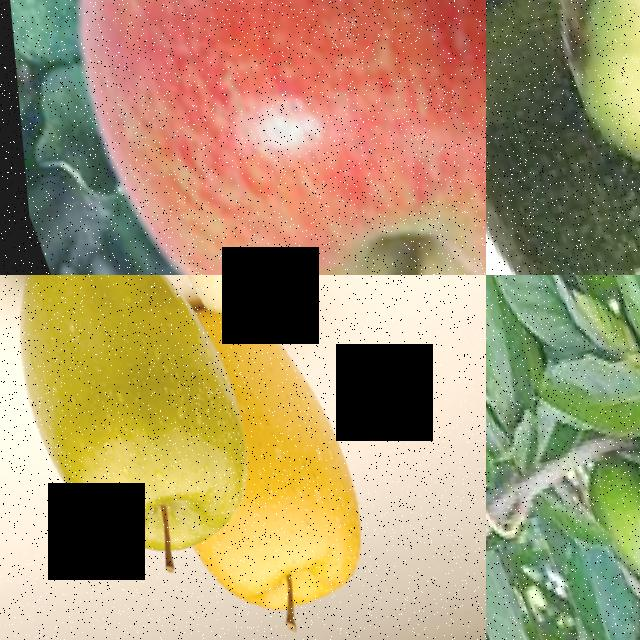apple: (7, 0, 486, 275), (0, 275, 280, 589), (199, 290, 388, 604), (99, 275, 257, 335)
avocado: (486, 0, 640, 275), (486, 0, 640, 264), (565, 430, 640, 640)
